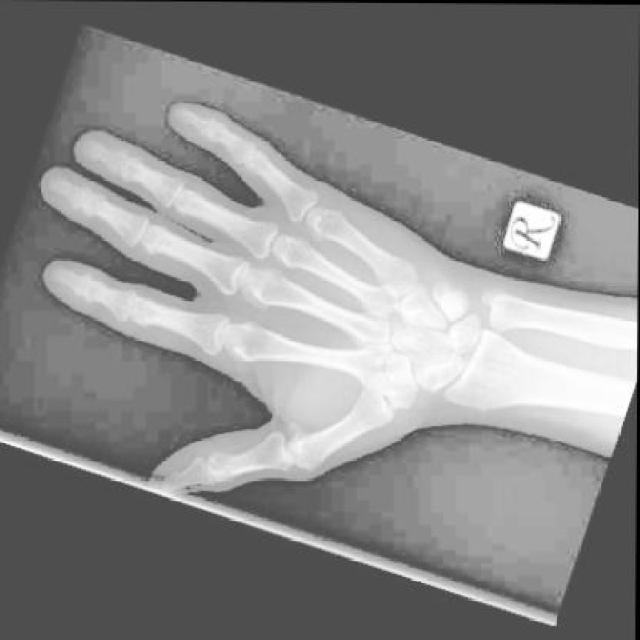Fracture: (434, 283, 468, 317)
